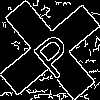P: (25, 25, 80, 81)
